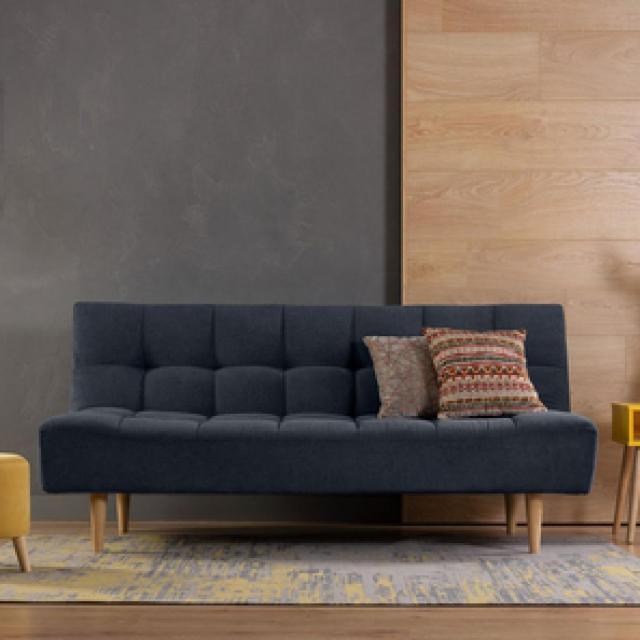sofa: (36, 299, 598, 554)
